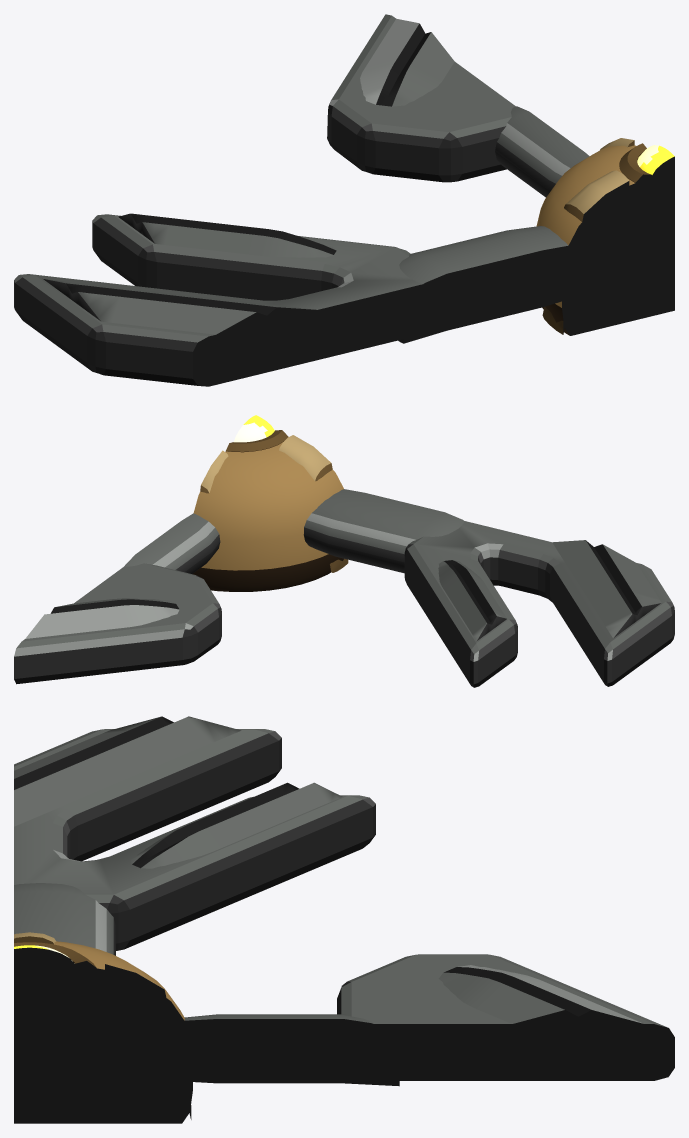
Rendered from spin_claw_9.glb.
3 renders of one model, top to bottom at view 1: azimuth 30°, elevation 25°; view 2: azimuth 150°, elevation 25°; view 3: azimuth 270°, elevation 25°, orthographic. The views are drawn at different scales.
Visible parts, largest first — view 1: spin_claw_9_arm3_plate, spin_claw_9_hub_dome, spin_claw_9_arm0_plate, spin_claw_9_arm3_rod, spin_claw_9_arm3_ridge0, spin_claw_9_arm0_ridge0, spin_claw_9_arm3_ridge1, spin_claw_9_arm0_rod, spin_claw_9_hub_rib3, spin_claw_9_hub_lens, spin_claw_9_hub_bezel; view 2: spin_claw_9_arm3_plate, spin_claw_9_hub_dome, spin_claw_9_arm0_plate, spin_claw_9_arm3_rod, spin_claw_9_arm3_ridge0, spin_claw_9_arm0_ridge0, spin_claw_9_arm0_rod, spin_claw_9_arm3_ridge1, spin_claw_9_hub_rib3, spin_claw_9_hub_lens, spin_claw_9_hub_bezel, spin_claw_9_hub_rib0; view 3: spin_claw_9_arm3_plate, spin_claw_9_arm0_plate, spin_claw_9_hub_dome, spin_claw_9_arm0_rod, spin_claw_9_arm3_ridge0, spin_claw_9_arm0_ridge0, spin_claw_9_arm3_ridge1, spin_claw_9_arm3_rod, spin_claw_9_hub_lens, spin_claw_9_hub_bezel, spin_claw_9_hub_rib0.
Boxes of the visible parts, x1,y1,x2,y2 form: spin_claw_9_arm3_plate: (14, 214, 451, 386); spin_claw_9_hub_dome: (536, 145, 674, 335); spin_claw_9_arm0_plate: (327, 14, 515, 182); spin_claw_9_arm3_rod: (398, 226, 605, 343); spin_claw_9_arm3_ridge0: (43, 279, 325, 345); spin_claw_9_arm0_ridge0: (360, 18, 454, 106); spin_claw_9_arm3_ridge1: (118, 213, 336, 257); spin_claw_9_arm0_rod: (495, 106, 589, 197); spin_claw_9_hub_rib3: (542, 170, 629, 334); spin_claw_9_hub_lens: (637, 145, 674, 191); spin_claw_9_hub_bezel: (619, 143, 674, 192); spin_claw_9_arm3_plate: (404, 521, 674, 687); spin_claw_9_hub_dome: (192, 442, 343, 591); spin_claw_9_arm0_plate: (14, 563, 221, 684); spin_claw_9_arm3_rod: (303, 489, 464, 573); spin_claw_9_arm3_ridge0: (552, 540, 661, 638); spin_claw_9_arm0_ridge0: (25, 598, 179, 638); spin_claw_9_arm0_rod: (124, 513, 220, 573); spin_claw_9_arm3_ridge1: (438, 560, 506, 640); spin_claw_9_hub_rib3: (279, 435, 348, 572); spin_claw_9_hub_lens: (234, 415, 274, 442); spin_claw_9_hub_bezel: (226, 430, 288, 452); spin_claw_9_hub_rib0: (200, 450, 228, 493); spin_claw_9_arm3_plate: (14, 729, 375, 950); spin_claw_9_arm0_plate: (337, 954, 674, 1080); spin_claw_9_hub_dome: (14, 941, 192, 1123); spin_claw_9_arm0_rod: (136, 1014, 399, 1086); spin_claw_9_arm3_ridge0: (14, 716, 241, 826); spin_claw_9_arm0_ridge0: (438, 965, 657, 1034); spin_claw_9_arm3_ridge1: (131, 782, 342, 868); spin_claw_9_arm3_rod: (14, 883, 115, 955); spin_claw_9_hub_lens: (14, 945, 76, 981); spin_claw_9_hub_bezel: (14, 942, 96, 979); spin_claw_9_hub_rib0: (105, 964, 191, 1119).
Size of the model in its own units: 22.7 by 6.19 by 21.08.
